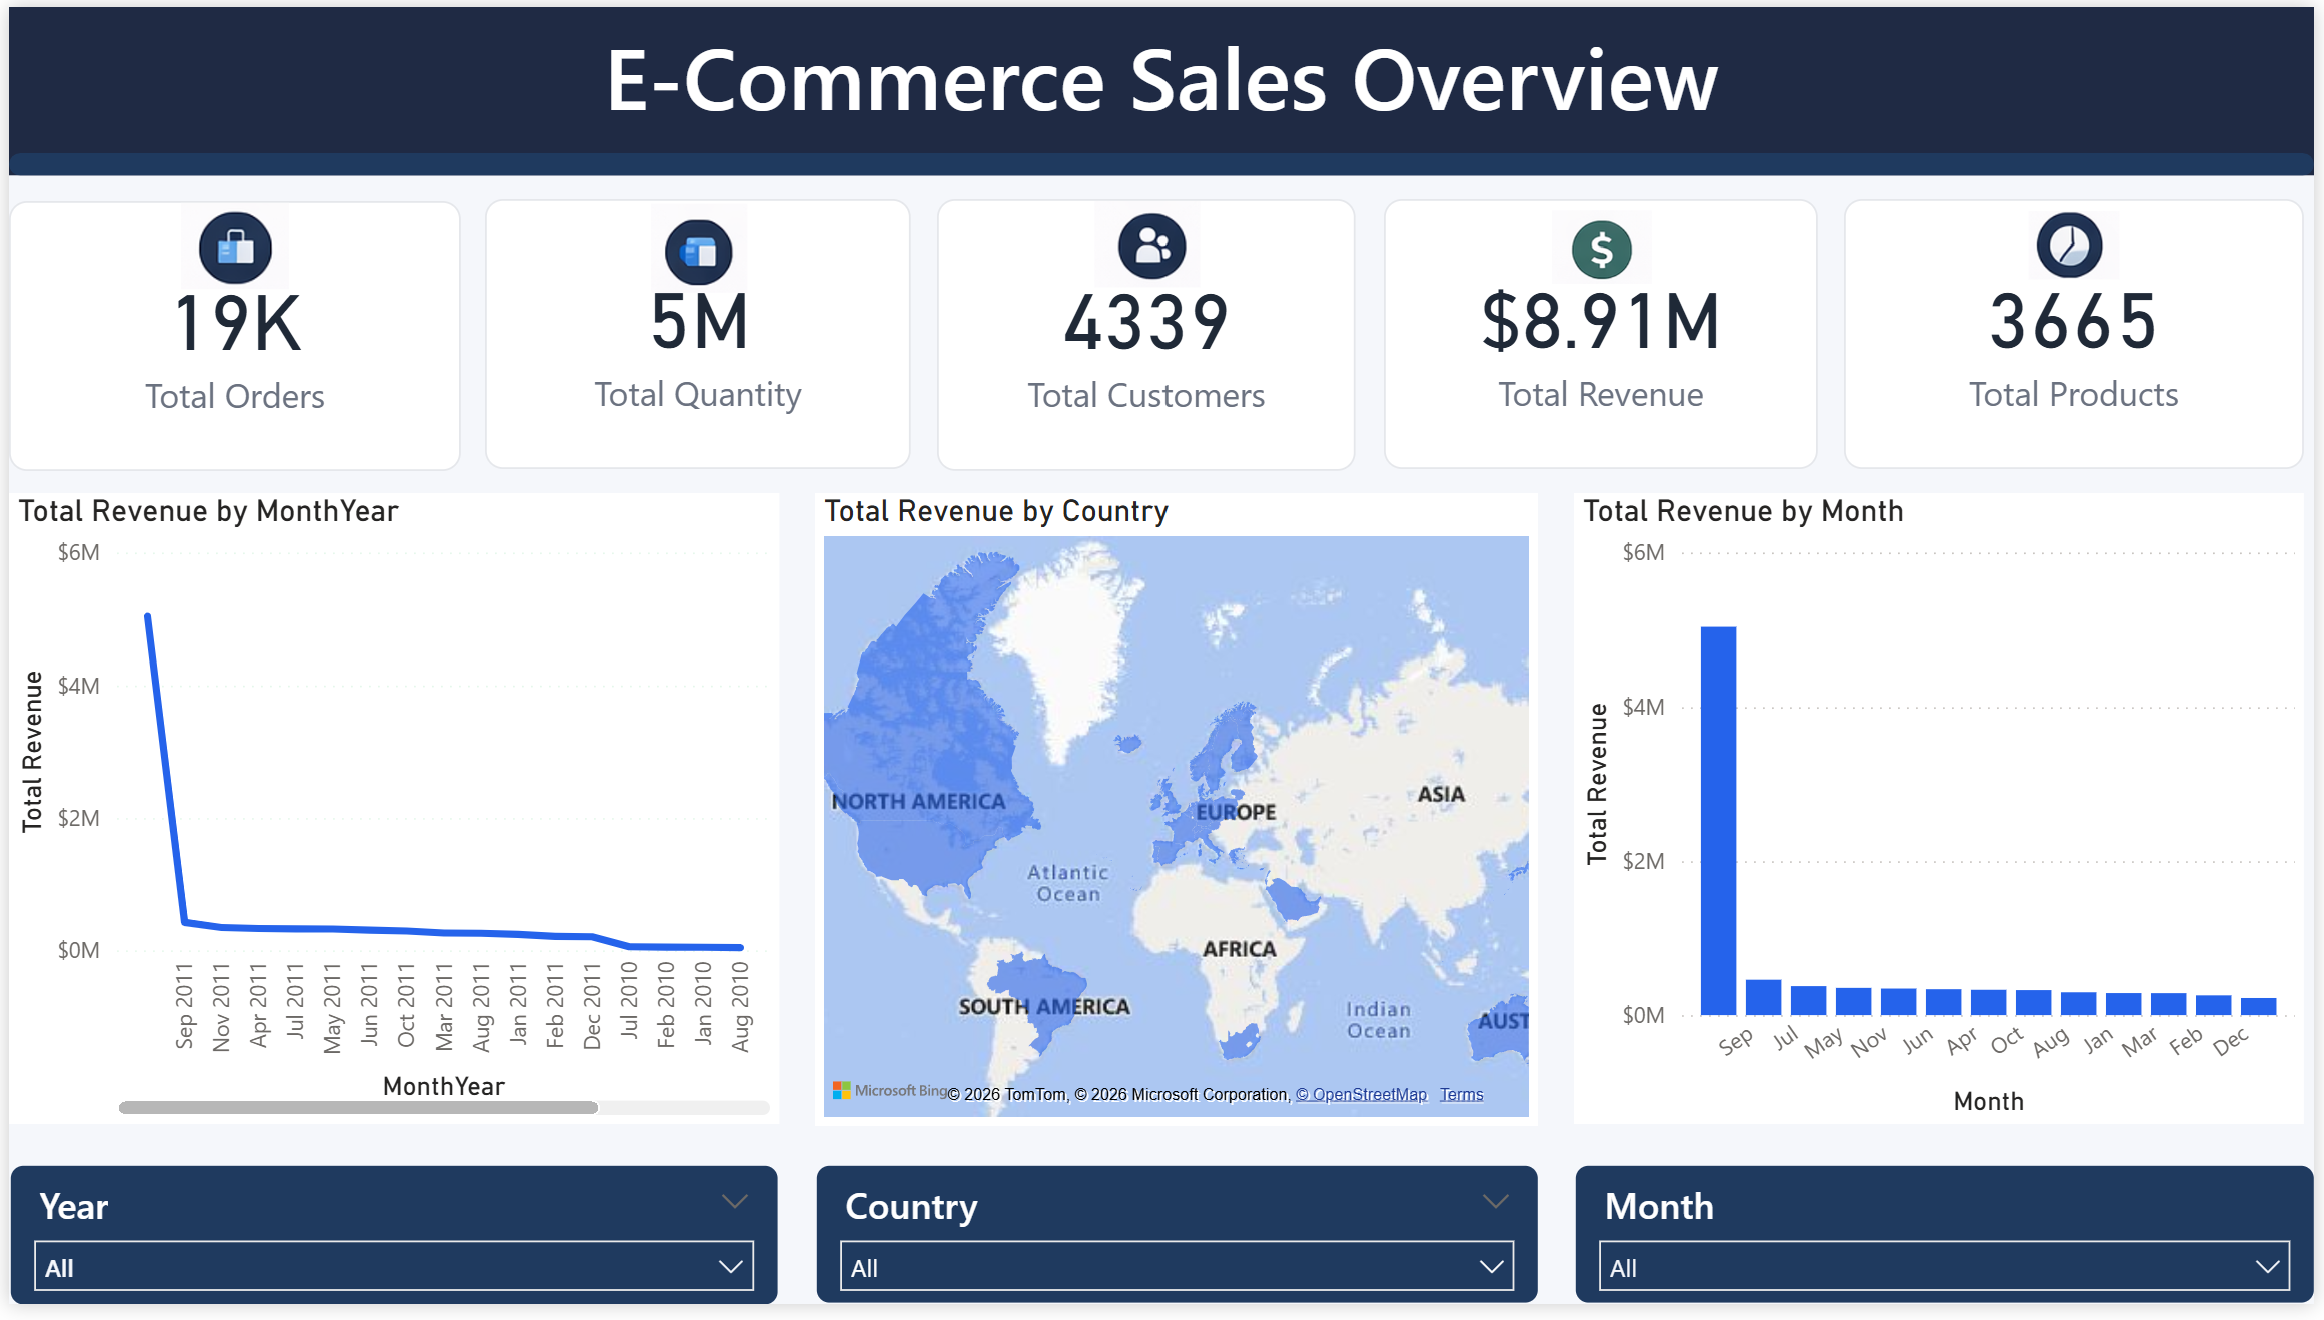

The page's visual inventory and layout, read from the dashboard file:
{"tool":"powerbi","page":{"name":"Sales","canvas":[1280,720],"ordinal":0},"visuals":[{"type":"card","fields":{"Values":["online_retail.Total Quantity"]},"box":[264.4,106.7,236.7,150],"z":0,"group":"g2"},{"type":"lineChart","fields":{"Y":["online_retail.Total Revenue"],"Category":["online_retail.MonthYear"]},"box":[0,270,427.8,350],"z":0},{"type":"card","fields":{"Values":["online_retail.Total Orders"]},"box":[0,107.8,251.1,150],"z":1000,"group":"g1"},{"type":"columnChart","fields":{"Category":["online_retail.Month"],"Y":["online_retail.Total Revenue"]},"box":[868.9,270,405.6,350],"z":1000},{"type":"textbox","box":[0,0,1280,93.3],"z":2000},{"type":"card","fields":{"Values":["online_retail.Total Customers"]},"box":[515.6,106.7,232.2,151.1],"z":2000,"group":"g3"},{"type":"shape","box":[0,81.1,1280,12.6],"z":3000},{"type":"card","fields":{"Values":["online_retail.Total Products"]},"box":[1018.9,106.7,255.6,150],"z":3000,"group":"g5"},{"type":"card","fields":{"Values":["online_retail.Total Revenue"]},"box":[763.3,106.7,241.1,150],"z":4000,"group":"g4"},{"type":"slicer","fields":{"Values":["online_retail.Year"]},"box":[0,642.2,427.8,78.9],"z":4000},{"type":"slicer","fields":{"Values":["online_retail.Month"]},"box":[868.9,642.2,412.2,77.8],"z":5000},{"type":"slicer","fields":{"Values":["online_retail.Country"]},"box":[447.8,642.2,402.2,77.8],"z":6000},{"type":"filledMap","title":"Total  Revenue by  Country","fields":{"Category":["online_retail.Country"]},"box":[447.8,270,401.1,351.1],"z":7000},{"type":"group","id":"g1","title":"Group 1","box":[0,107.8,251.1,150],"z":8000},{"type":"group","id":"g2","title":"Group 2","box":[264.4,106.7,236.7,150],"z":9000},{"type":"group","id":"g3","title":"Group 3","box":[515.6,106.7,232.2,151.1],"z":10000},{"type":"group","id":"g4","title":"Group 4","box":[763.3,106.7,241.1,150],"z":11000},{"type":"group","id":"g5","title":"Group 5","box":[1018.9,106.7,255.6,150],"z":12000},{"type":"image","box":[598.9,107.8,66.7,47.8],"z":13000,"group":"g3"},{"type":"image","box":[95.6,107.8,60,50],"z":14000,"group":"g1"},{"type":"image","box":[1120,113.4,53.3,37.8],"z":15000,"group":"g5"},{"type":"image","box":[356.6,107.8,53.3,52.2],"z":16000,"group":"g2"},{"type":"image","box":[856.6,108.9,55.6,48.9],"z":17000,"group":"g4"}]}

Visuals, with their boxes in screenshot pixels (x1, y1, x2, y2), scaled from the page's 1280x720 canvas onto the 2324x1320 screenshot:
card - online_retail.Total Quantity: <bbox>480, 196, 910, 471</bbox>
lineChart - online_retail.Total Revenue x online_retail.MonthYear: <bbox>0, 495, 777, 1137</bbox>
card - online_retail.Total Orders: <bbox>0, 198, 456, 473</bbox>
columnChart - online_retail.Month x online_retail.Total Revenue: <bbox>1578, 495, 2314, 1137</bbox>
textbox: <bbox>0, 0, 2323, 171</bbox>
card - online_retail.Total Customers: <bbox>936, 196, 1358, 473</bbox>
shape: <bbox>0, 149, 2323, 172</bbox>
card - online_retail.Total Products: <bbox>1850, 196, 2314, 471</bbox>
card - online_retail.Total Revenue: <bbox>1386, 196, 1824, 471</bbox>
slicer - online_retail.Year: <bbox>0, 1177, 777, 1319</bbox>
slicer - online_retail.Month: <bbox>1578, 1177, 2323, 1319</bbox>
slicer - online_retail.Country: <bbox>813, 1177, 1543, 1319</bbox>
"Total  Revenue by  Country" filledMap: <bbox>813, 495, 1541, 1139</bbox>
"Group 1" group: <bbox>0, 198, 456, 473</bbox>
"Group 2" group: <bbox>480, 196, 910, 471</bbox>
"Group 3" group: <bbox>936, 196, 1358, 473</bbox>
"Group 4" group: <bbox>1386, 196, 1824, 471</bbox>
"Group 5" group: <bbox>1850, 196, 2314, 471</bbox>
image: <bbox>1087, 198, 1208, 285</bbox>
image: <bbox>174, 198, 283, 289</bbox>
image: <bbox>2034, 208, 2130, 277</bbox>
image: <bbox>647, 198, 744, 293</bbox>
image: <bbox>1555, 200, 1656, 289</bbox>
